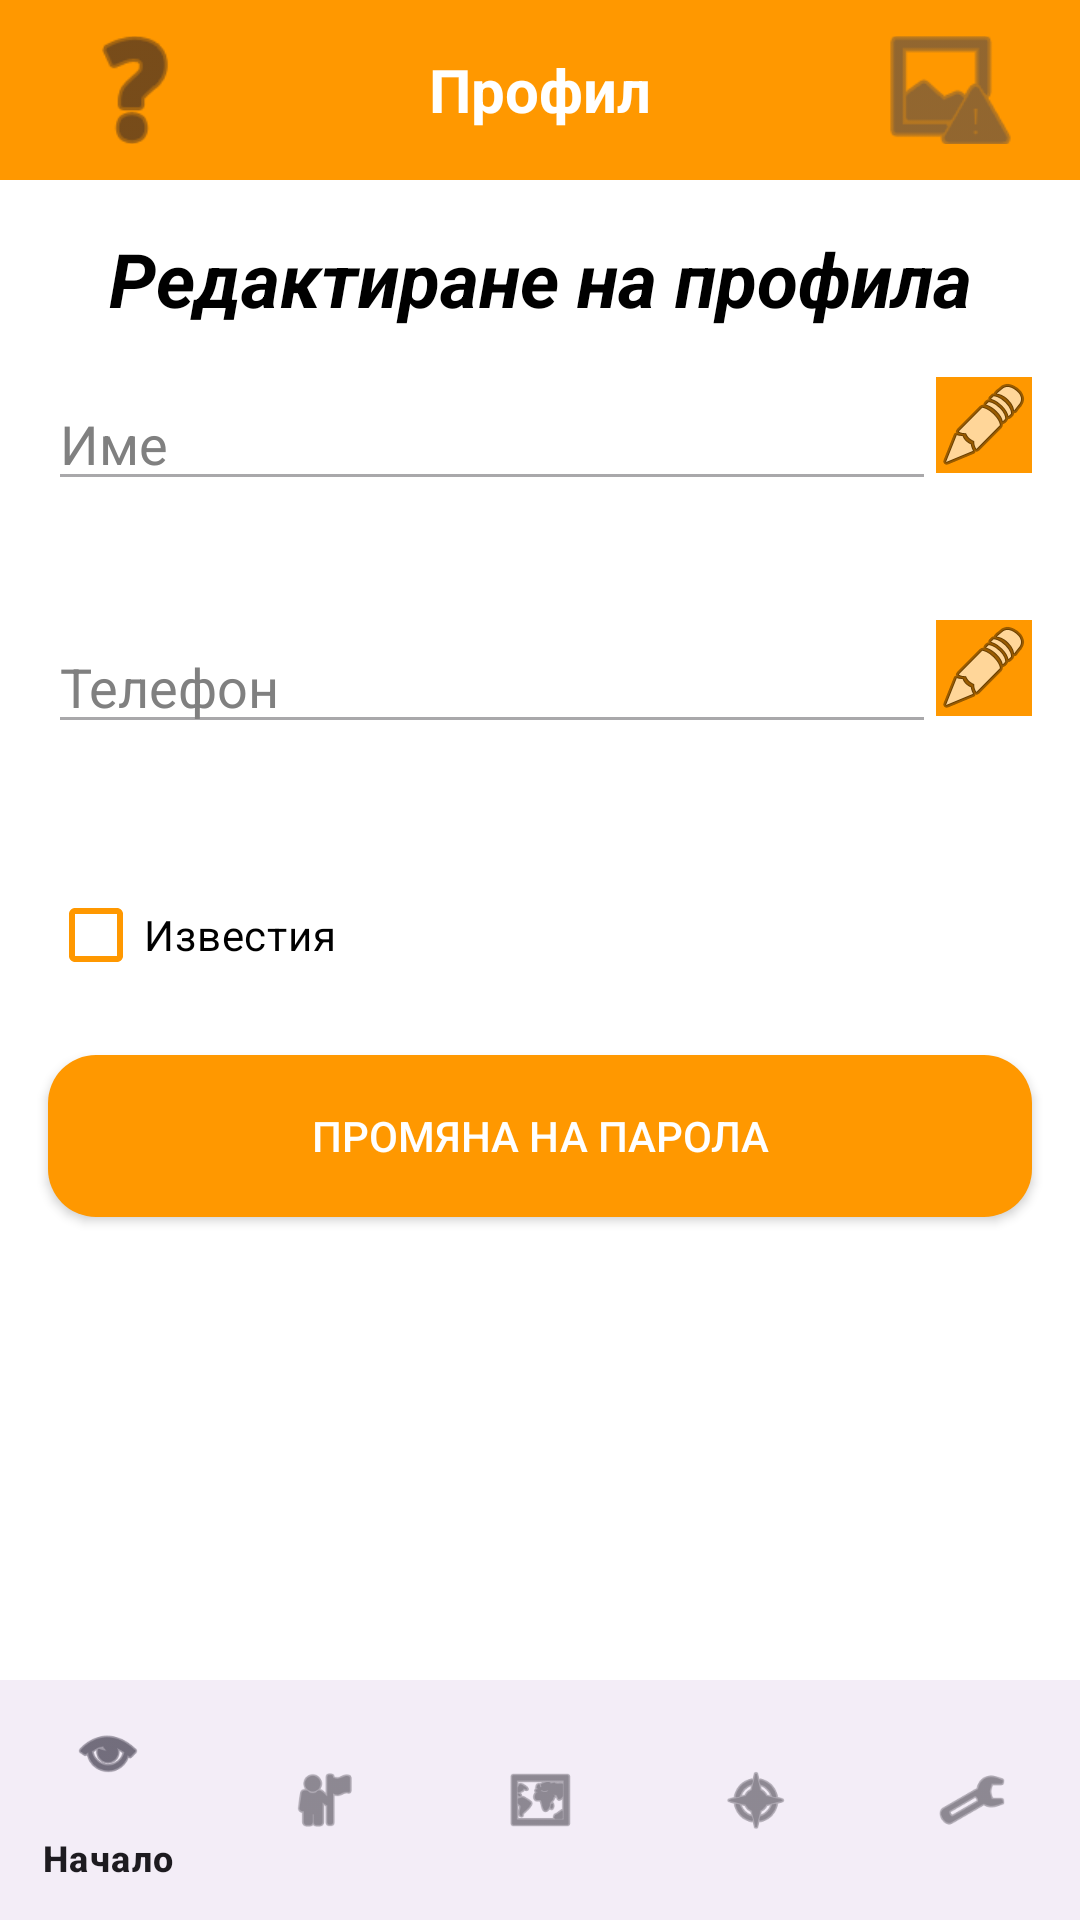

Icons on this 1080px x 1920px Android screen, each with its box as (x1, y1, x2, y2):
Edit Name: (936, 377, 1032, 473), (936, 620, 1032, 716)
